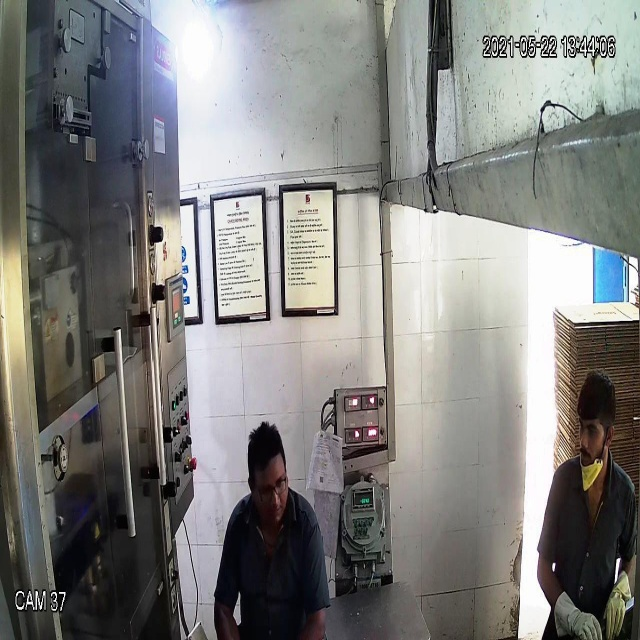Gafas: (244, 470, 295, 504)
Sin_gafas: (571, 415, 611, 445)
